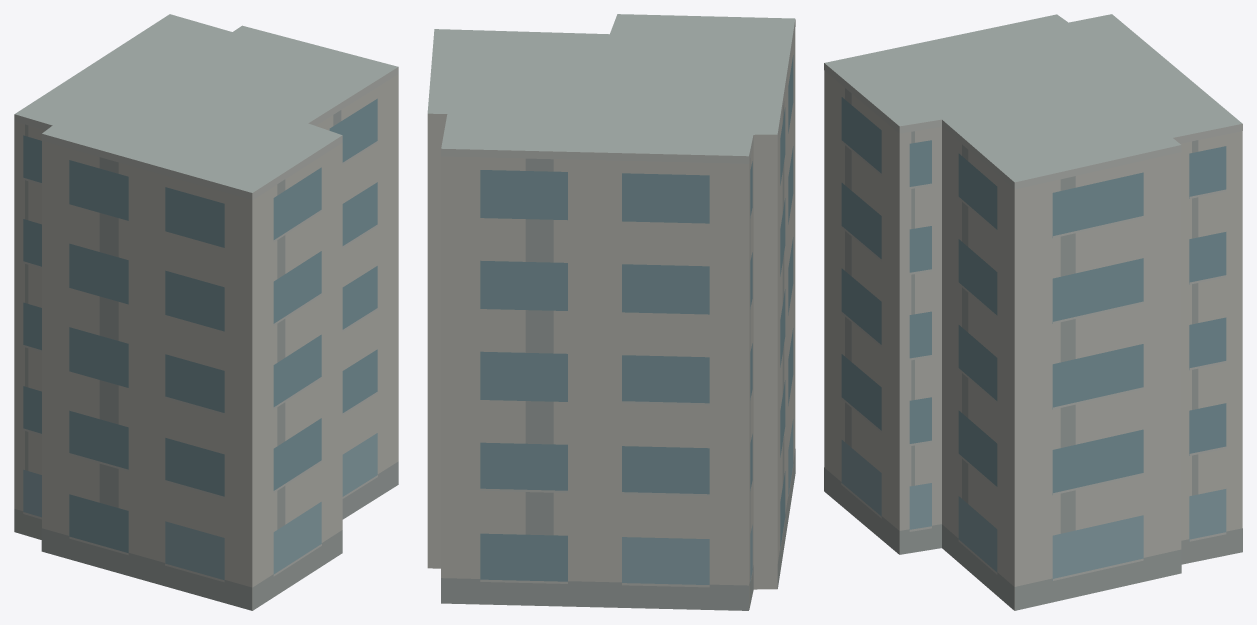
File: survey-upis-32934911.glb
3 views of the same model, side by side, from view 1: azimuth 30°, elevation 25°; view 2: azimuth 150°, elevation 25°; view 3: azimuth 270°, elevation 25° (orthographic). The views are drawn at different scales.
Visible parts, largest first — view 1: survey-upis-32934911.tmp; view 2: survey-upis-32934911.tmp; view 3: survey-upis-32934911.tmp.
Boxes of the visible parts, x1,y1,x2,y2 form: survey-upis-32934911.tmp: [14, 14, 398, 610]; survey-upis-32934911.tmp: [427, 14, 795, 610]; survey-upis-32934911.tmp: [824, 14, 1242, 610].
Bounding box in the file's own units: 12.07 × 14.3 × 12.67.
